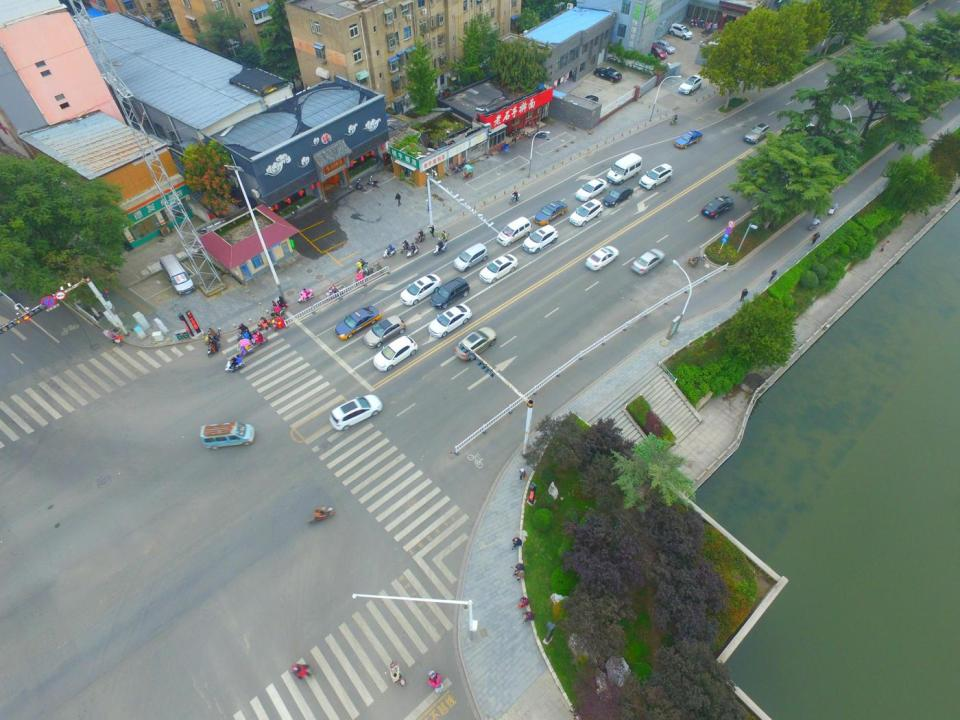car: (327, 393, 383, 432), (371, 335, 418, 371), (333, 306, 382, 340), (426, 302, 472, 338), (454, 326, 500, 361), (362, 314, 406, 348), (400, 272, 443, 305), (429, 276, 472, 308), (478, 252, 518, 284), (453, 243, 490, 272), (522, 226, 559, 253), (631, 247, 665, 276), (568, 198, 603, 226), (583, 245, 620, 271), (638, 163, 674, 189), (532, 200, 568, 225), (702, 193, 734, 219), (574, 178, 608, 201), (603, 183, 634, 207), (743, 122, 770, 145), (575, 93, 598, 118), (673, 130, 703, 148), (594, 64, 622, 83), (676, 74, 702, 94), (667, 22, 695, 40), (652, 38, 676, 55), (647, 41, 668, 60)
van: (197, 421, 257, 453), (159, 253, 196, 296), (606, 152, 643, 184), (495, 216, 532, 247)
